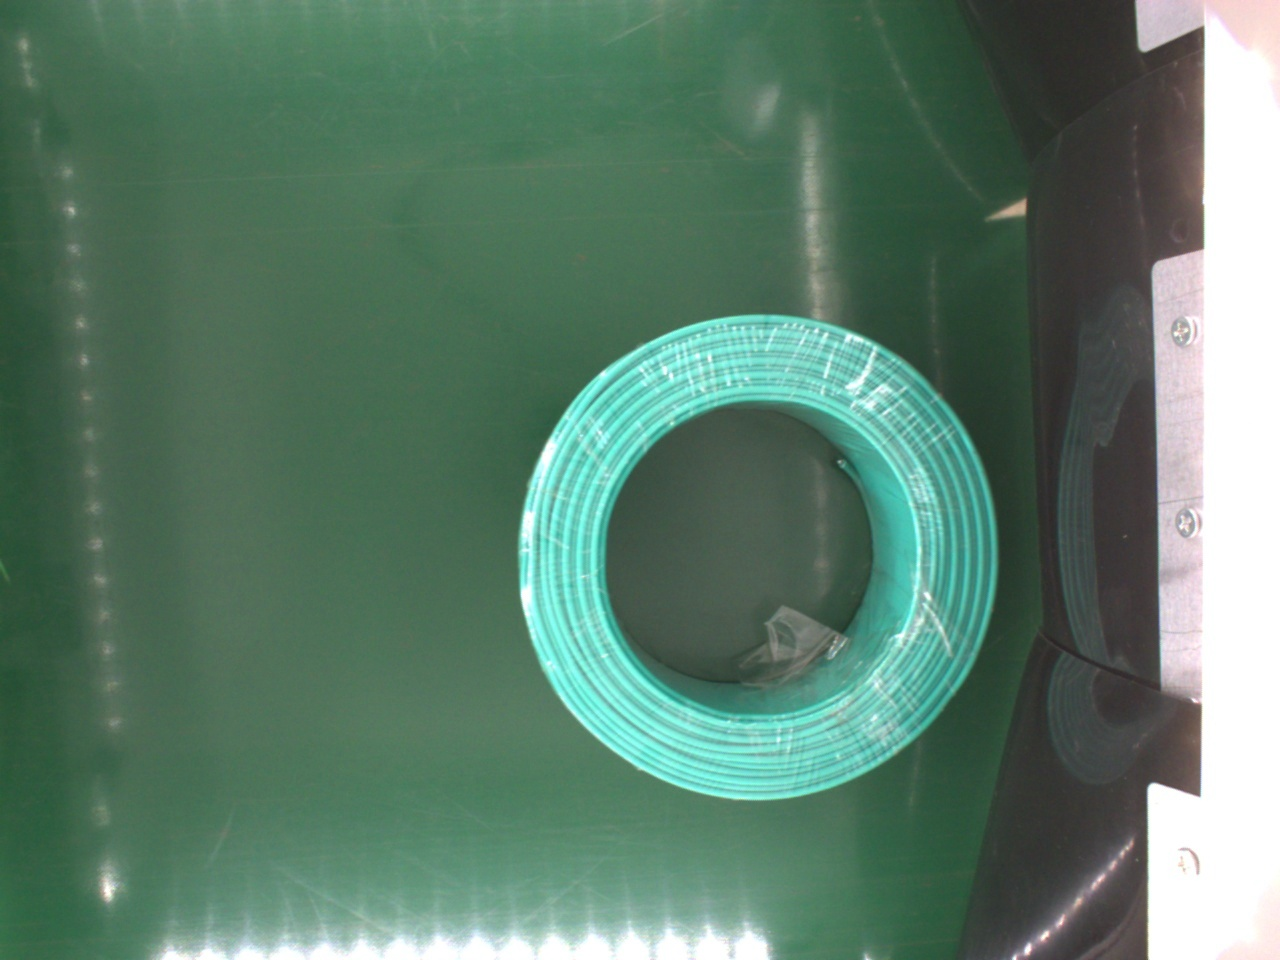green: (514, 313, 1001, 799)
